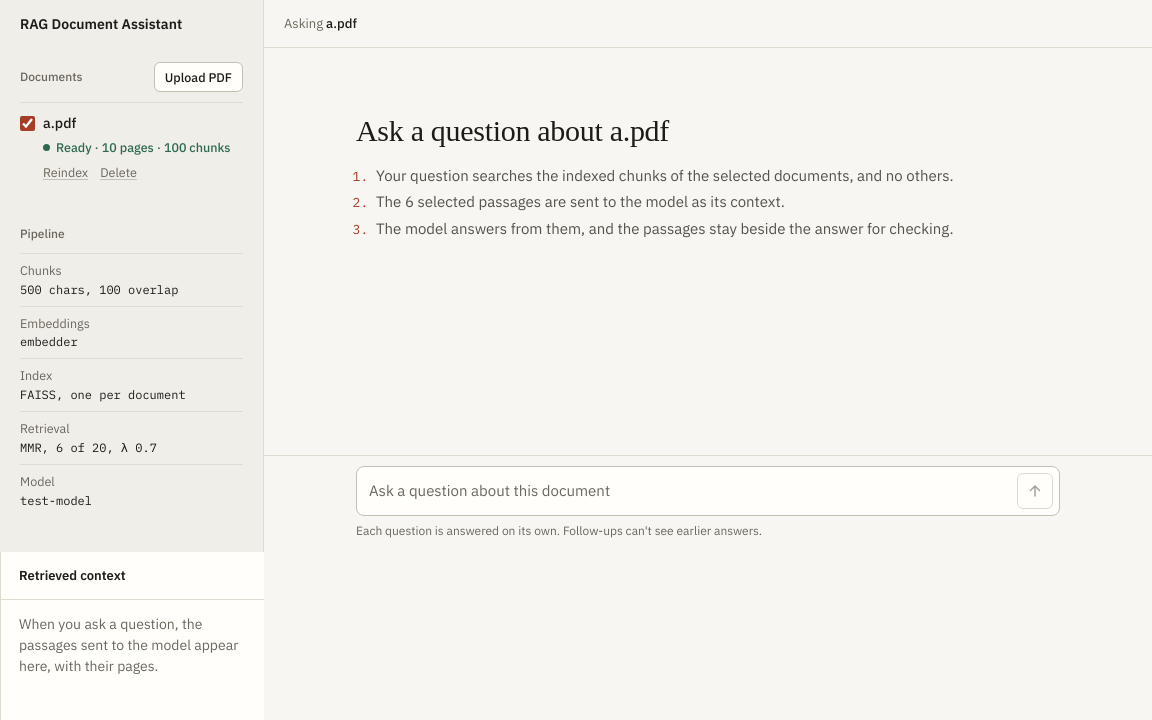
Test: question flow › shows a server refusal when a document stops being ready
The image size is (1152, 720).
Step 1. Type "What is it?" into the text box named "Question about the document" → (689, 491), box top-left (369, 473), bottom-right (1009, 509)
Then press Enter
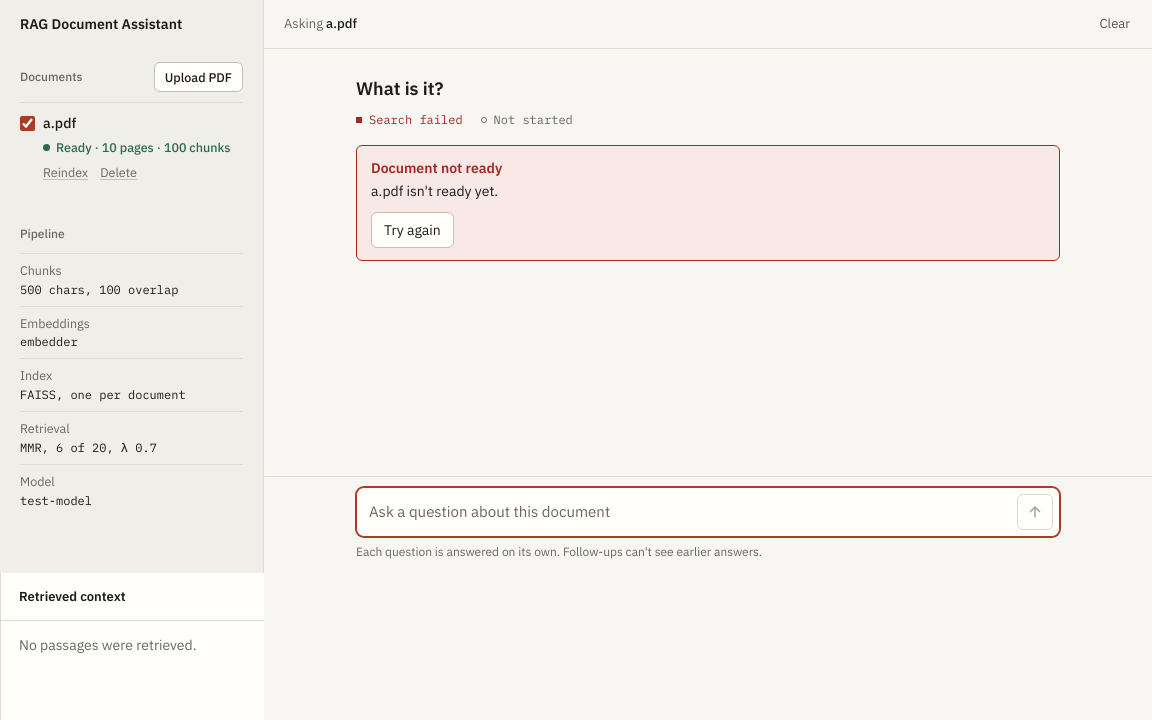
Expected: the message shows "a.pdf isn't ready yet.", top-left (371, 182), bottom-right (498, 200)
